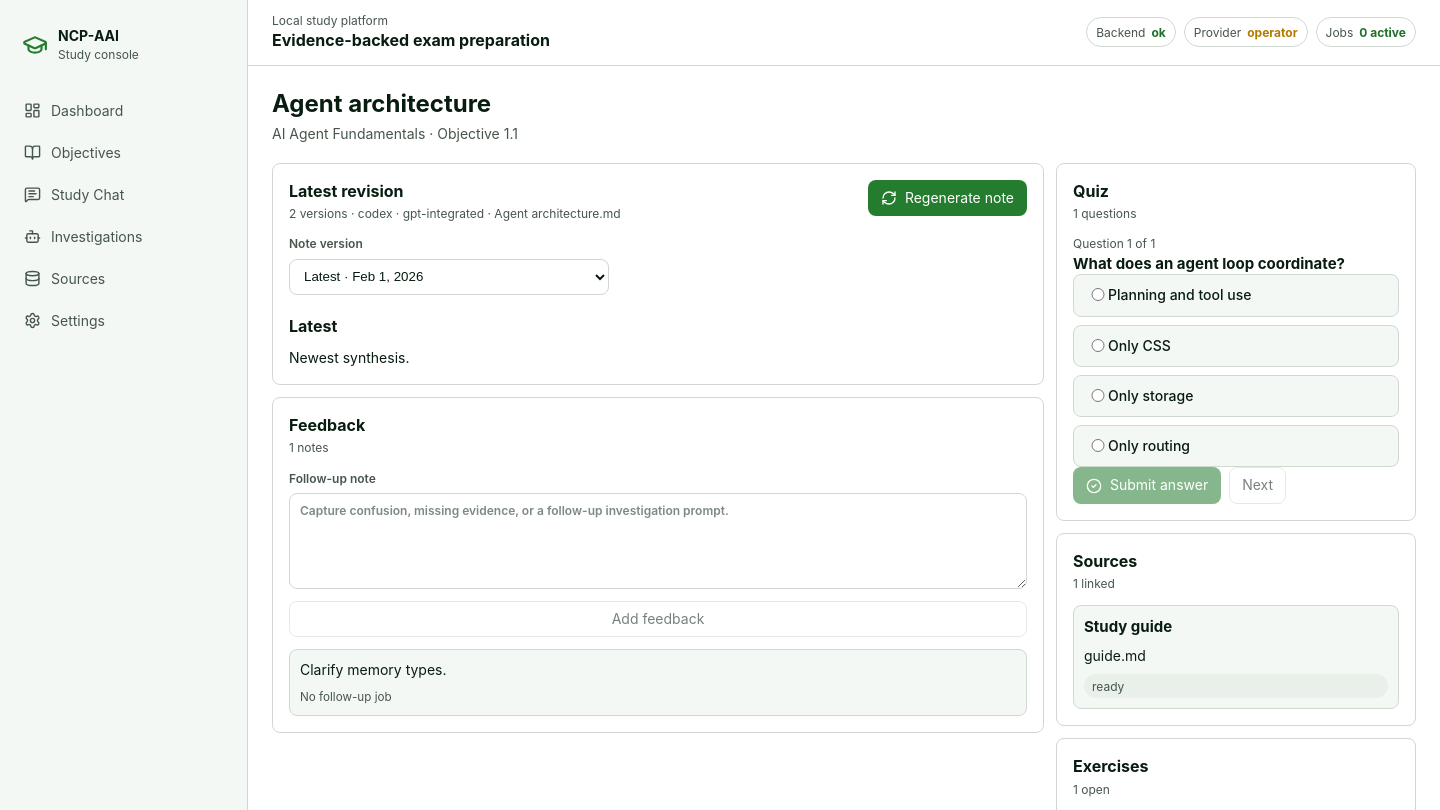
Scenario: NCP-AAI frontend › switches between note versions with the version selector
Expected: the text "Newest synthesis." is shown, [289, 349, 410, 366]
Select "Version 1 · Jan 1, 2026" in the dropdown at (449, 276), box [289, 258, 609, 294]
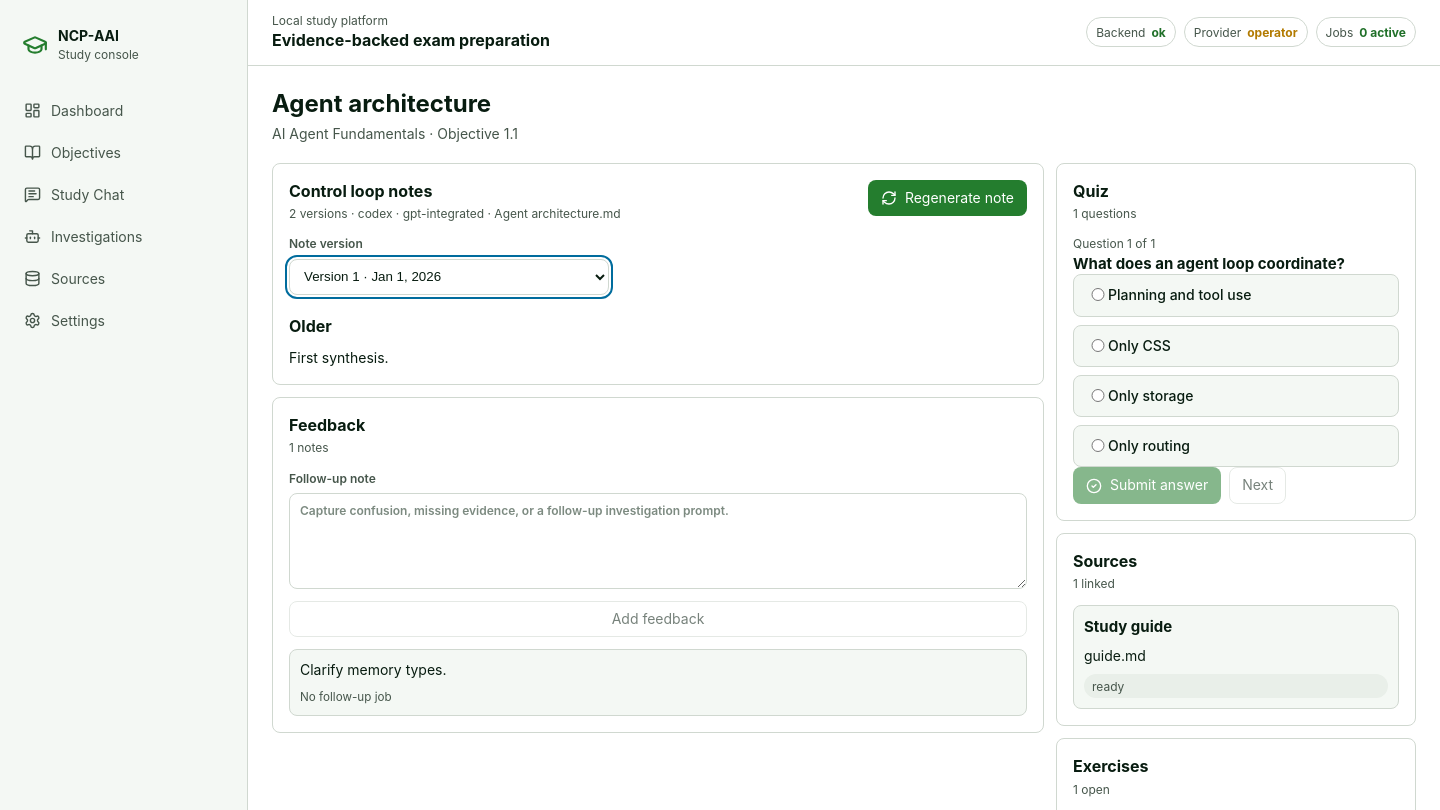
Now the text "First synthesis." is shown, box [289, 349, 389, 366]
